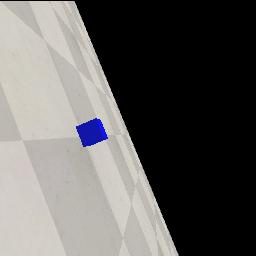box: (76, 118, 108, 147)
